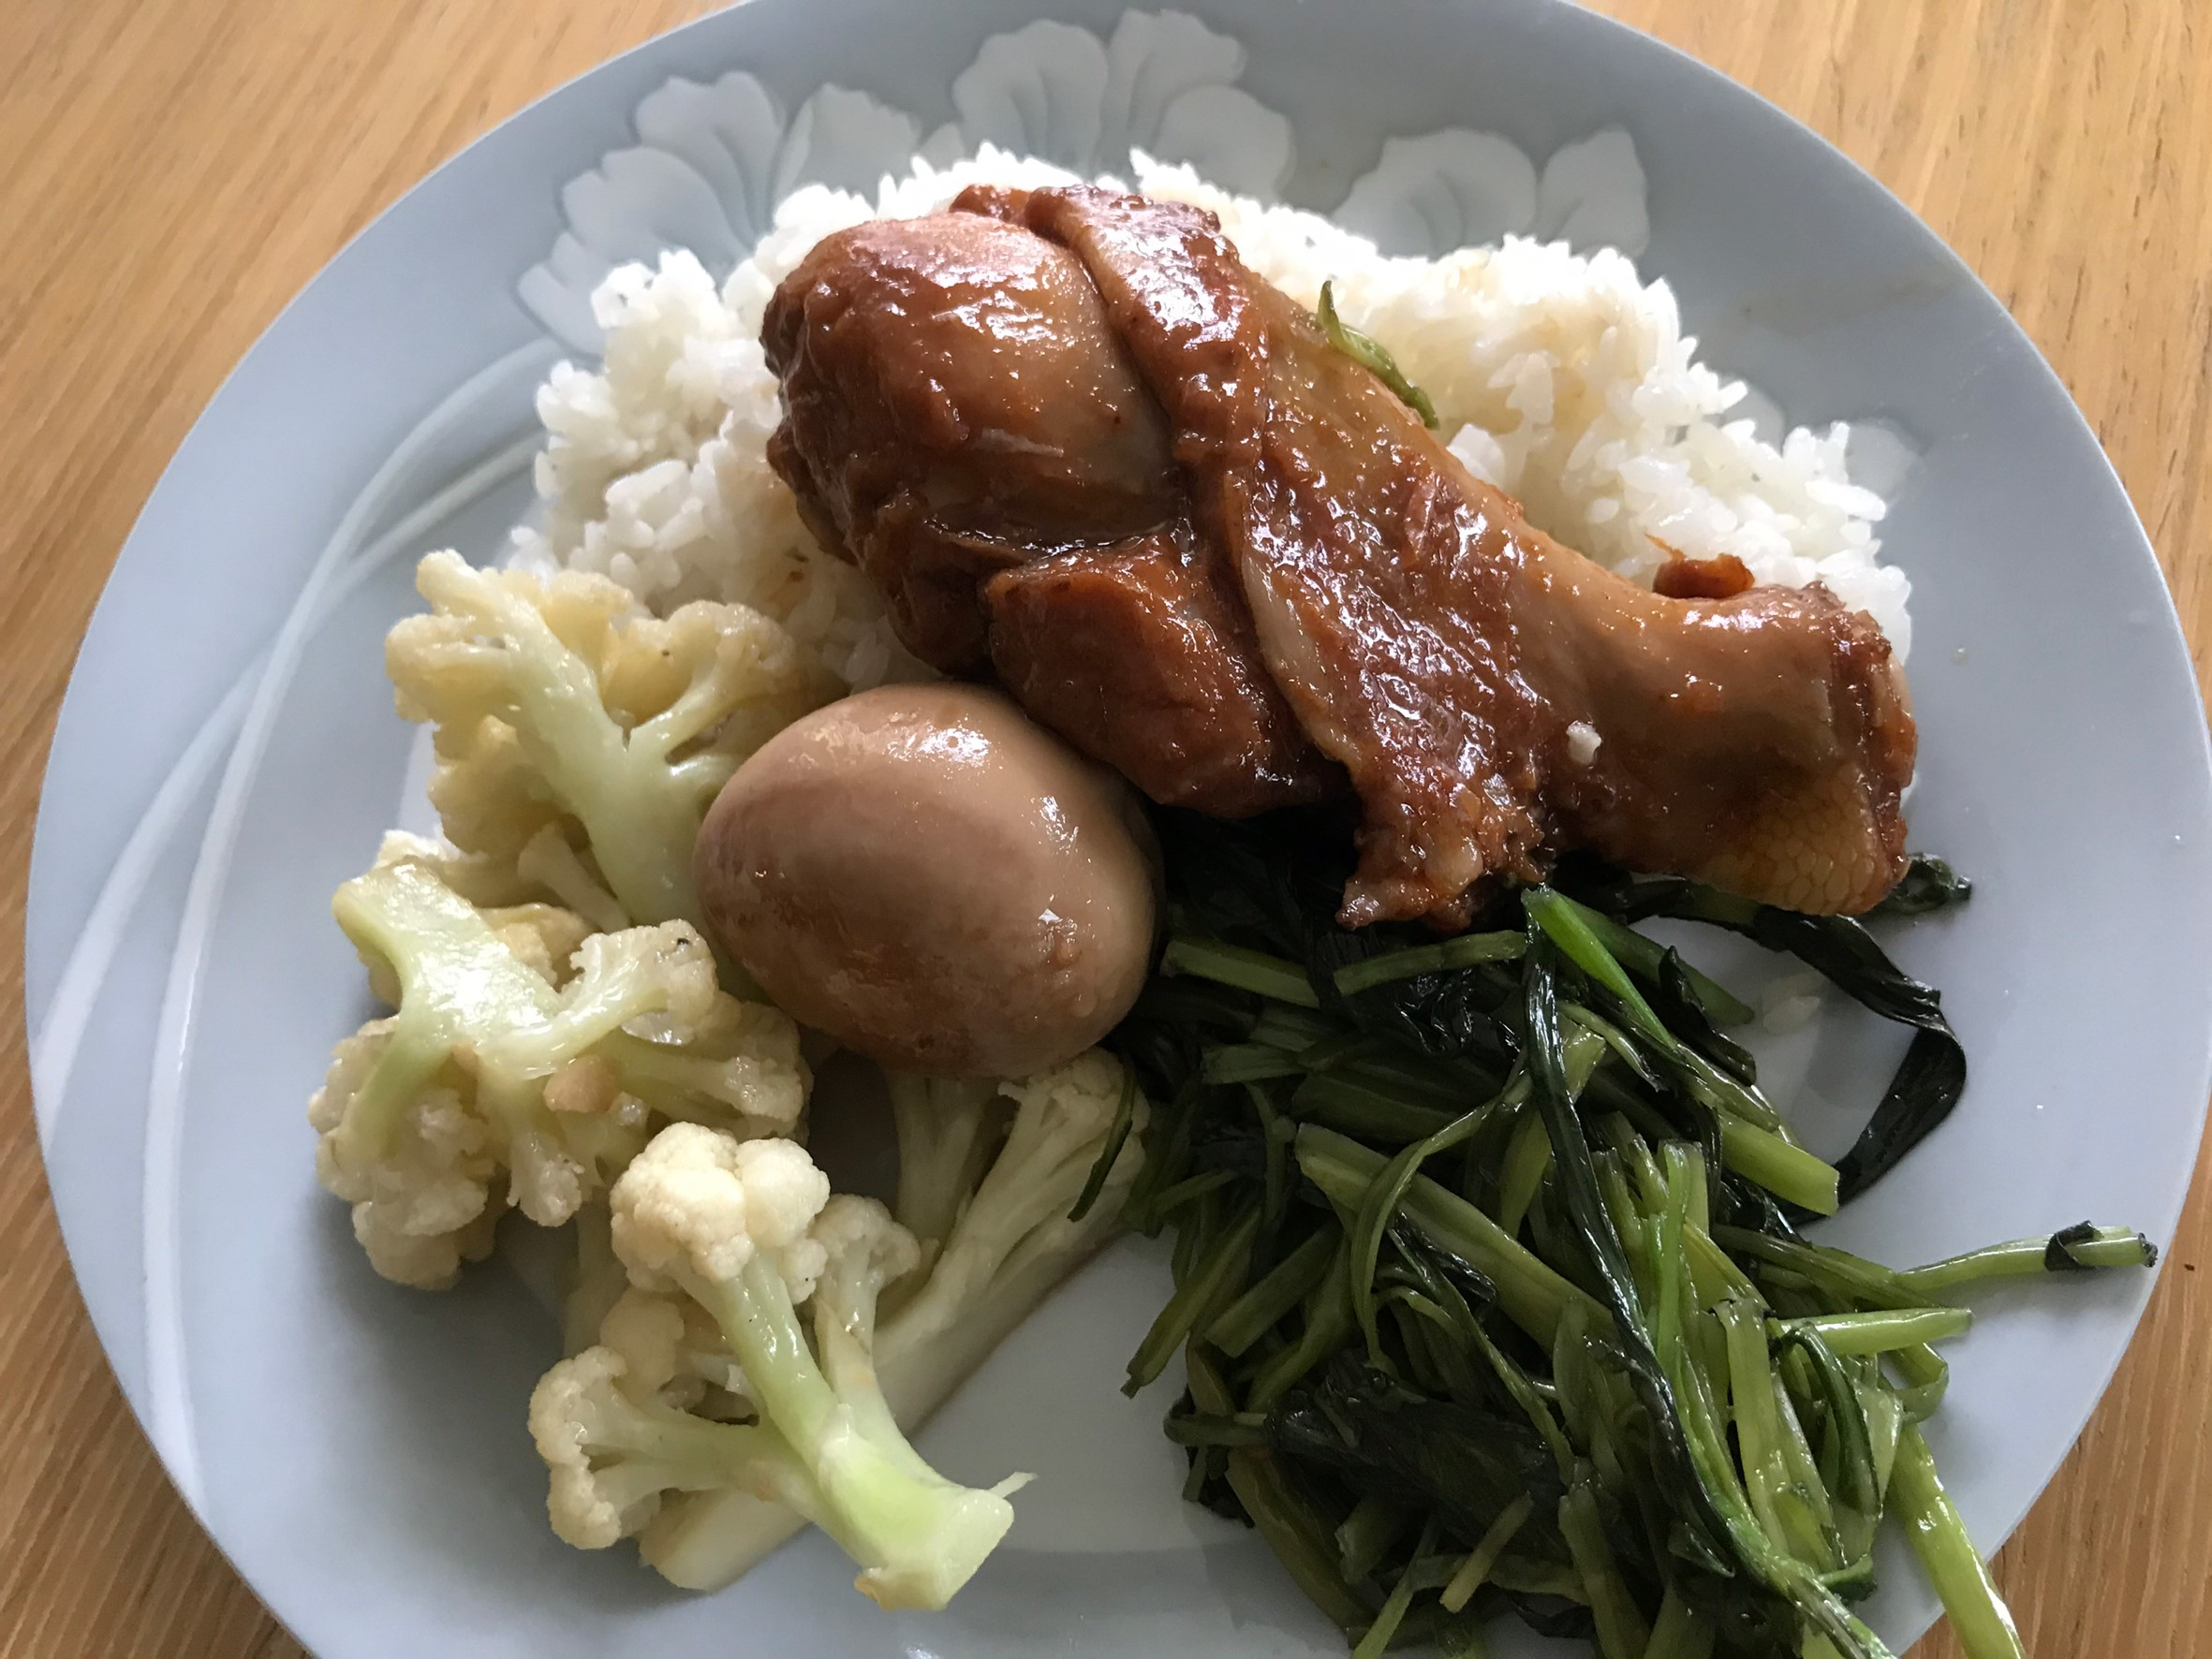rice: (1372, 230, 1886, 596), (533, 235, 790, 596)
water_spinach: (1187, 897, 2114, 1659)
